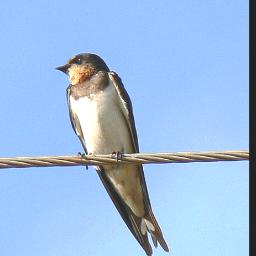Swallow: (54, 51, 170, 256)
